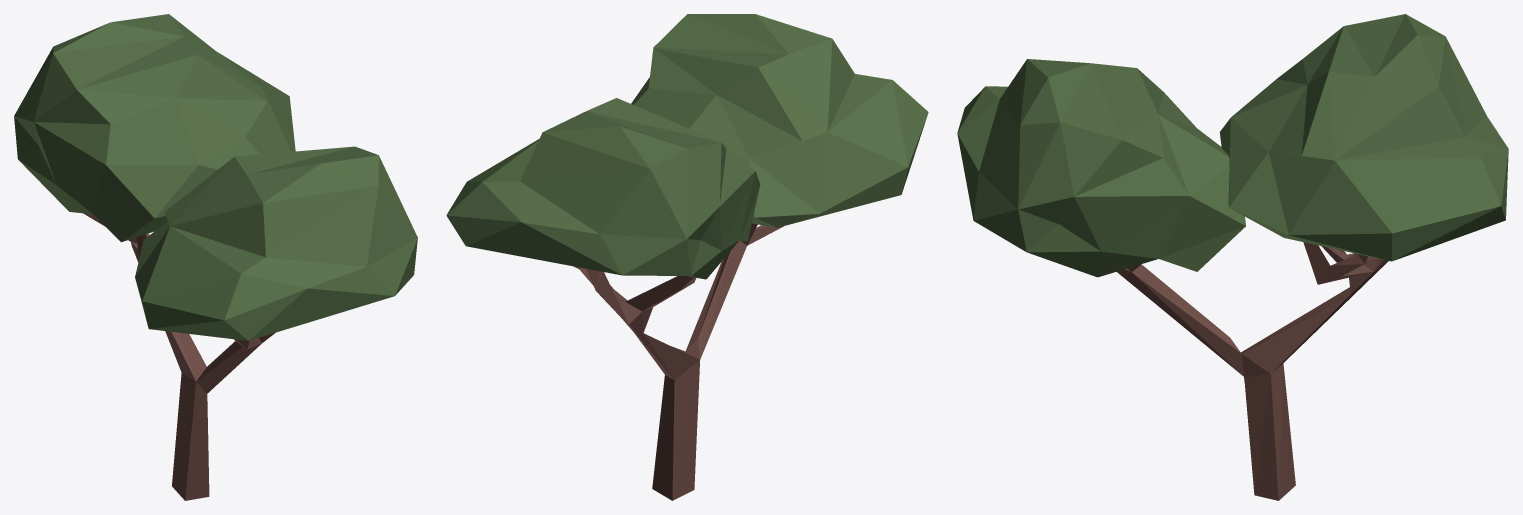
Rendered from CommonTree_1.lod3.glb.
3 renders of one model, left to right at view 1: azimuth 30°, elevation 25°; view 2: azimuth 150°, elevation 25°; view 3: azimuth 270°, elevation 25°, orthographic. The views are drawn at different scales.
Visible parts, largest first — view 1: CommonTree_1; view 2: CommonTree_1; view 3: CommonTree_1.
Part boxes in pixels (<box>): CommonTree_1: <box>14,14,417,500</box>; CommonTree_1: <box>446,14,928,500</box>; CommonTree_1: <box>957,14,1508,500</box>.
Bounding box in the file's own units: 1.81 × 2.46 × 2.74.
